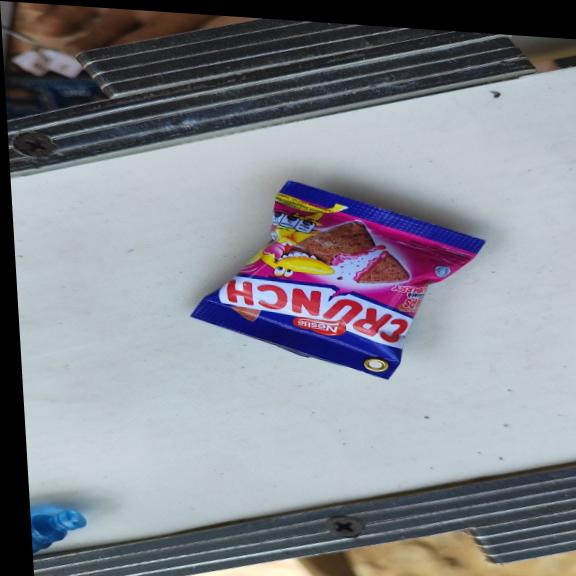Plastik: (182, 172, 496, 386), (30, 507, 91, 557)
